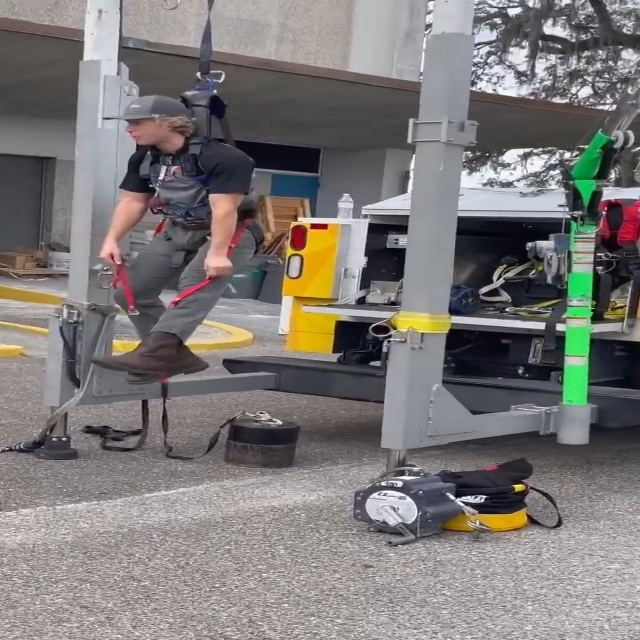Arnes_seguridad: (102, 65, 280, 271)
